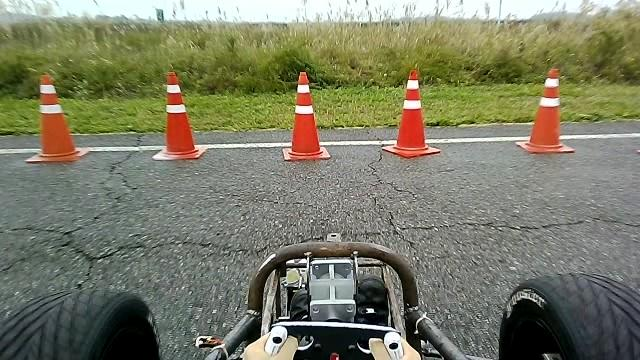red cone: (24, 72, 89, 163), (381, 69, 441, 158), (515, 67, 575, 153), (151, 69, 206, 160), (281, 71, 331, 161)
